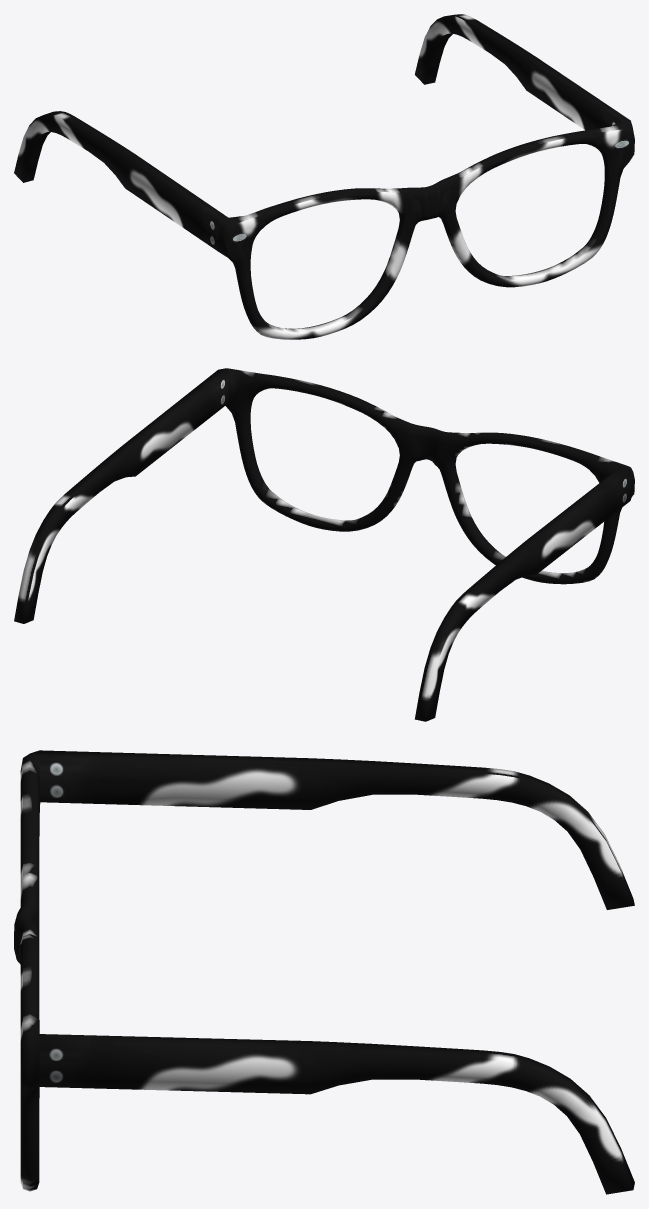
File: glasses_4.glb
3 views of the same model, one above another, from view 1: azimuth 30°, elevation 25°; view 2: azimuth 150°, elevation 25°; view 3: azimuth 270°, elevation 25° (orthographic). The views are drawn at different scales.
Parts seen in each view (by area): view 1: Glasses.002; view 2: Glasses.002; view 3: Glasses.002.
Part boxes in pixels (left/top/right/bottom): Glasses.002: left=14, top=14, right=634, bottom=339; Glasses.002: left=14, top=368, right=634, bottom=721; Glasses.002: left=14, top=750, right=634, bottom=1194.
Bounding box in the file's own units: 0.147 × 0.0482 × 0.1319.
1 material, 1 textured.
